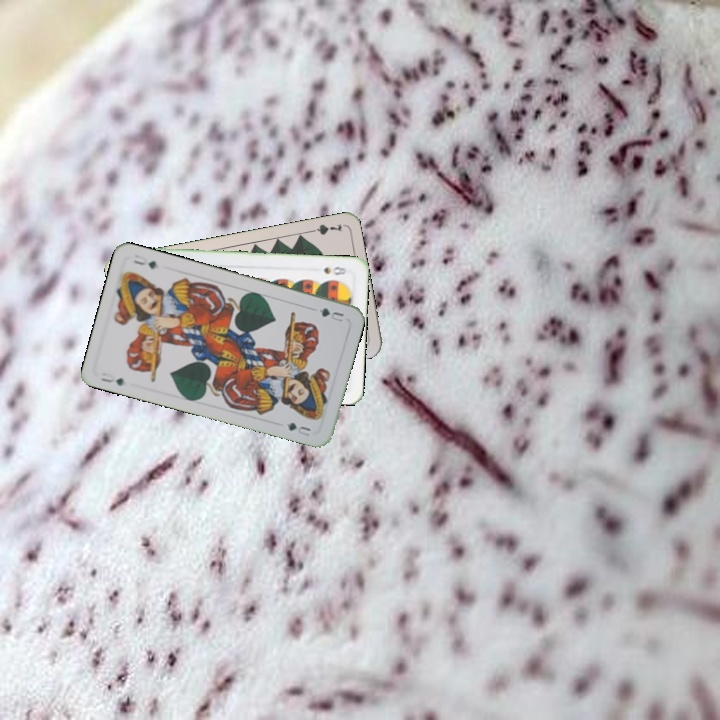G7: (304, 220, 345, 238)
GU: (314, 304, 346, 325), (97, 374, 127, 389)
S8: (320, 263, 349, 278)
